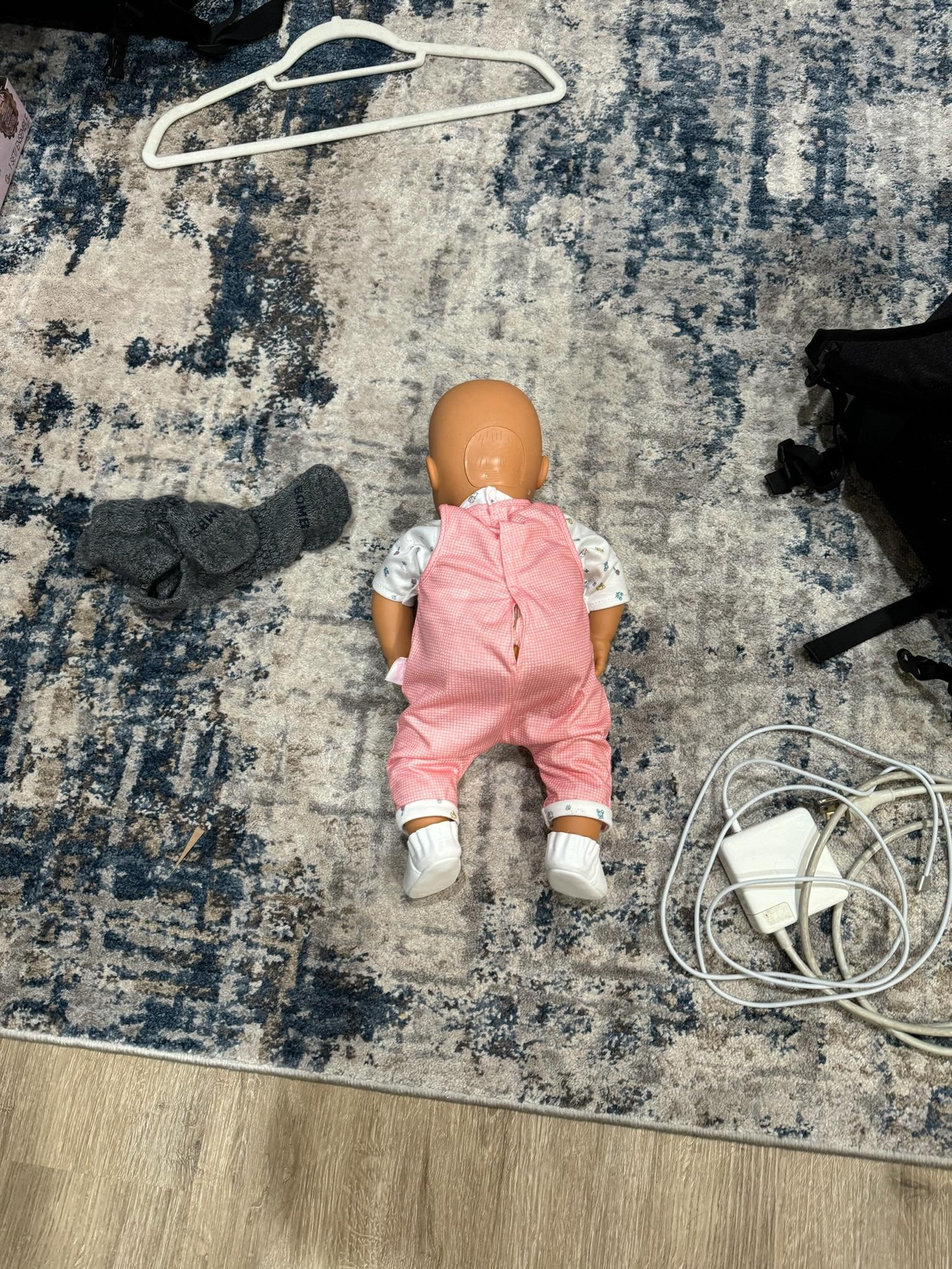baby: (368, 345, 638, 938)
